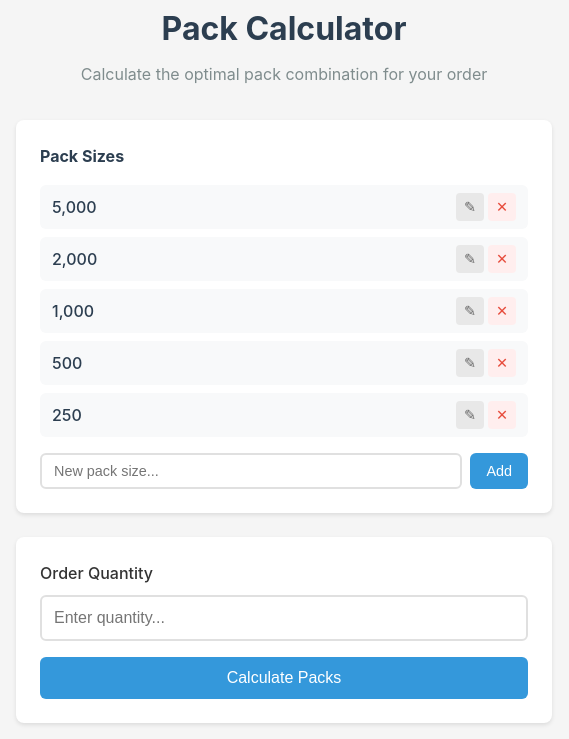
Test: Pack Sizes Management › can remove a pack size
The width and height of the screenshot is (569, 739).
Expected: the text "5,000" is shown, [52,195,97,220]
# Find the remove button for 250 (last item)
Click the button titled "Remove" in the row of "250".
click(502, 415)  # box [488,401,516,429]
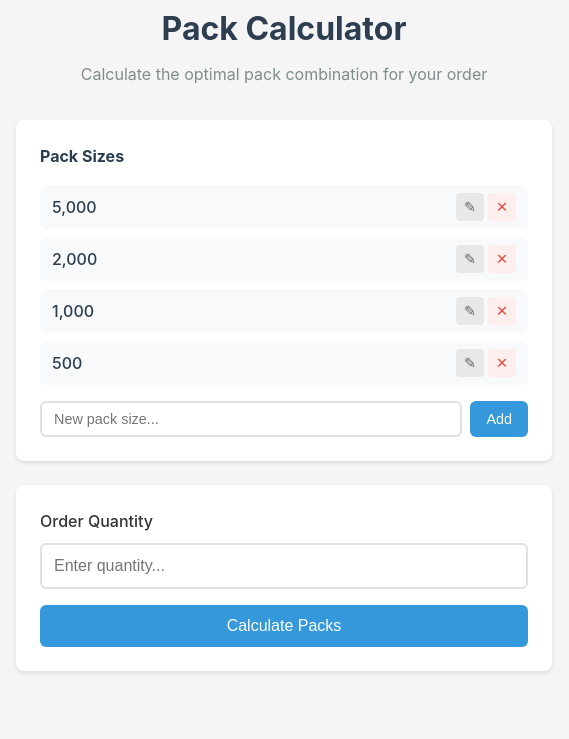
Expected: the text "250" is gone
